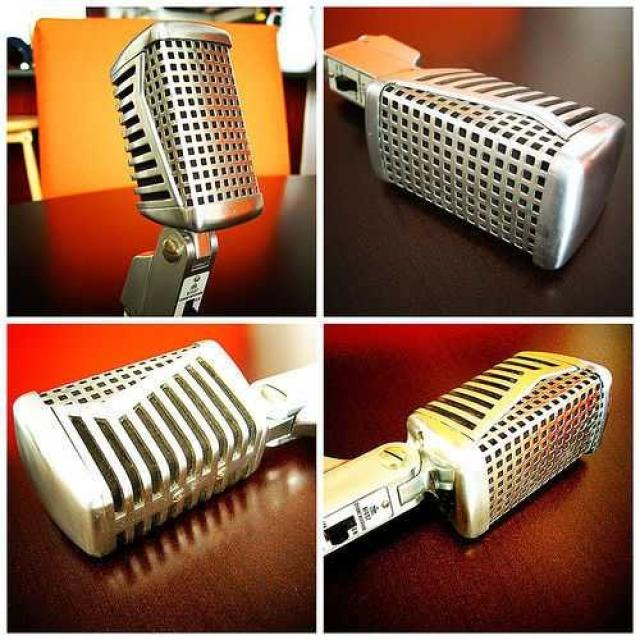microphone: (0, 326, 293, 566), (350, 40, 622, 286), (70, 10, 298, 241), (400, 328, 629, 550)
